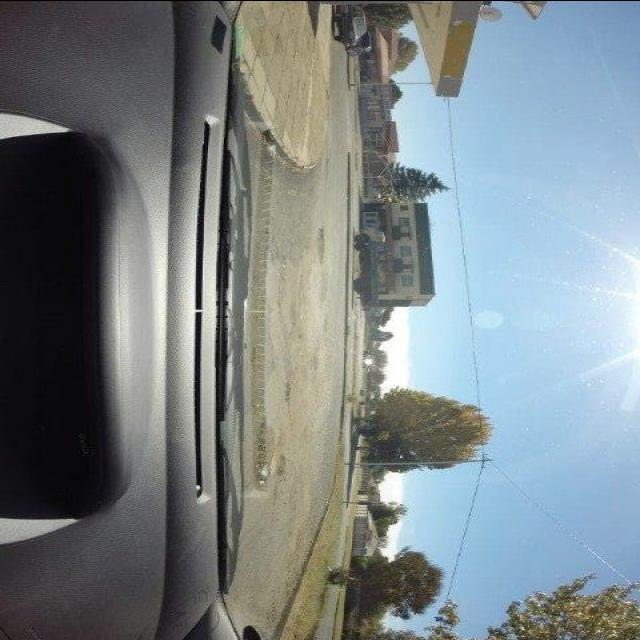lubang: (242, 422, 290, 494), (316, 222, 331, 266), (280, 373, 298, 407)
